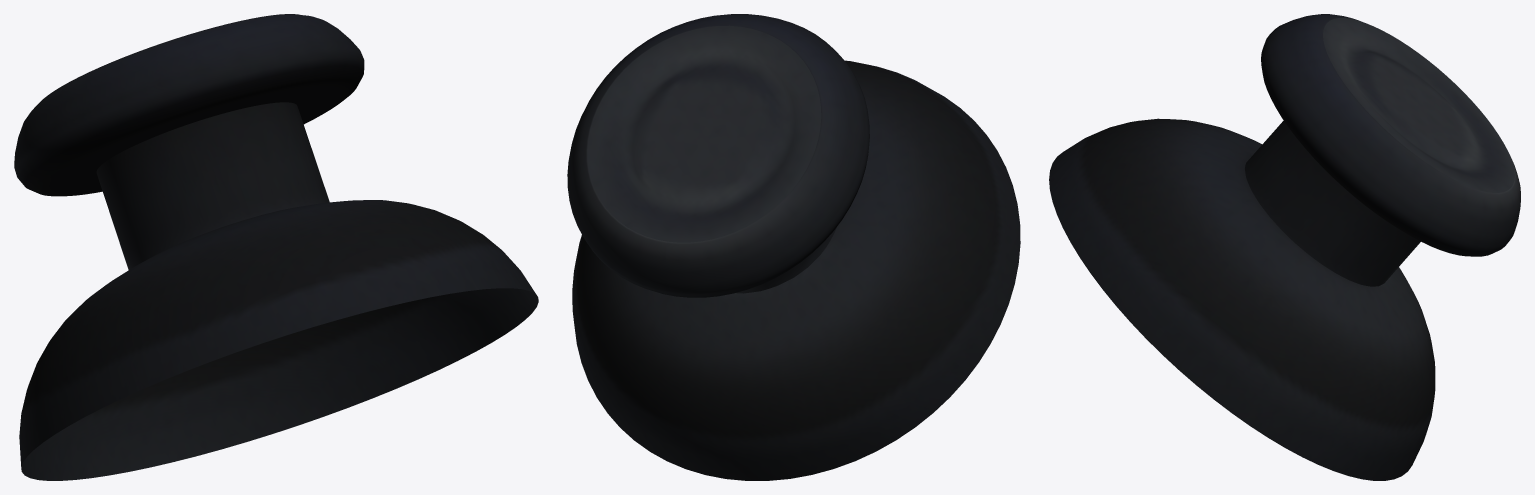
Rendered from playstation_vr2_sense_right_joystick.obj.
3 renders of one model, left to right at view 1: azimuth 30°, elevation 25°; view 2: azimuth 150°, elevation 25°; view 3: azimuth 270°, elevation 25°, orthographic. The views are drawn at different scales.
Parts seen in each view (by area): view 1: mesh_stick_R; view 2: mesh_stick_R; view 3: mesh_stick_R.
Boxes of the visible parts, x1,y1,x2,y2 form: mesh_stick_R: [14, 14, 538, 480]; mesh_stick_R: [567, 14, 1020, 480]; mesh_stick_R: [1049, 14, 1520, 480].
Size of the model in its own units: 0.0208 by 0.0202 by 0.0208.
Materials: 1 (1 with a texture image).
